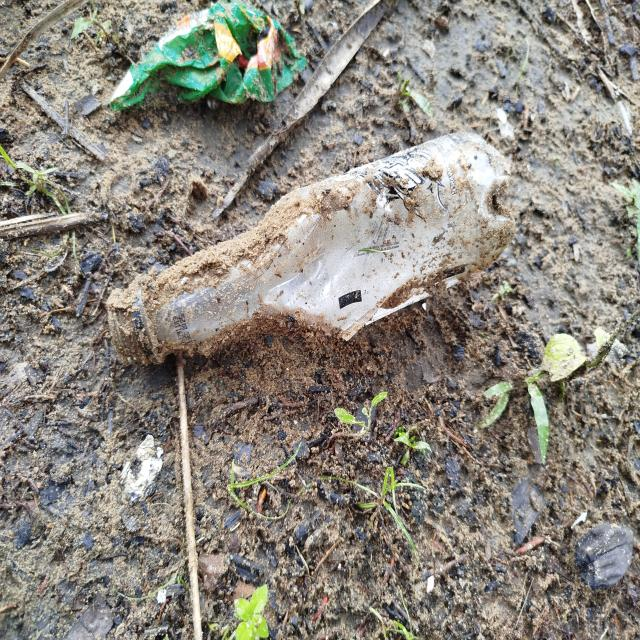plastic: (98, 126, 529, 381)
residual: (109, 0, 314, 118)
